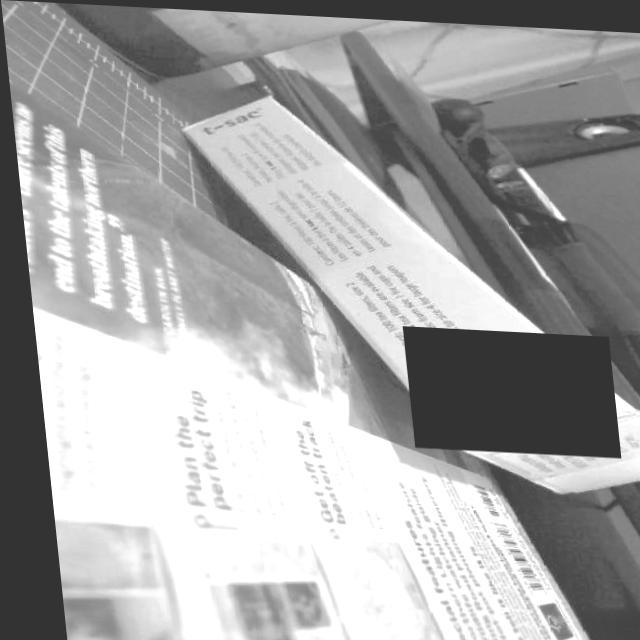qr_code: (395, 322, 611, 451)
